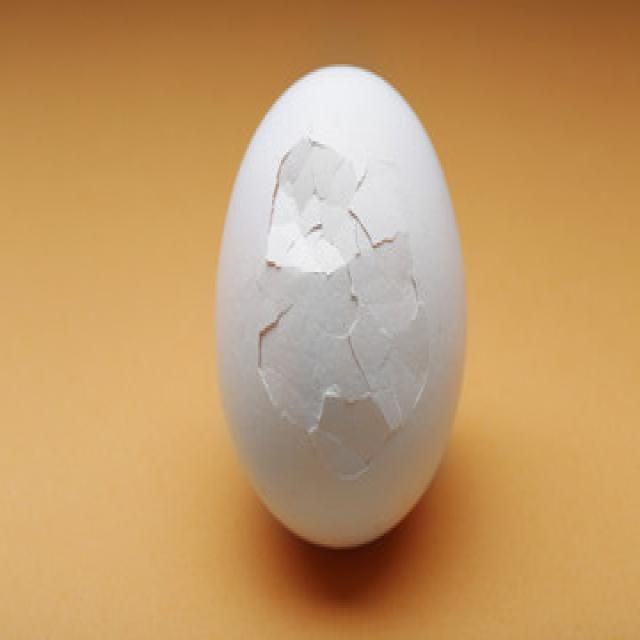Crack: (255, 131, 436, 484)
Egg: (214, 31, 472, 578)
